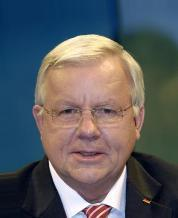face: (53, 106, 122, 165)
